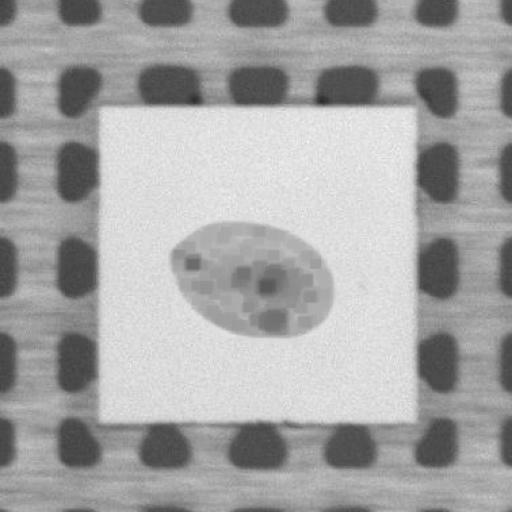DIE_INK: (165, 216, 335, 342)
